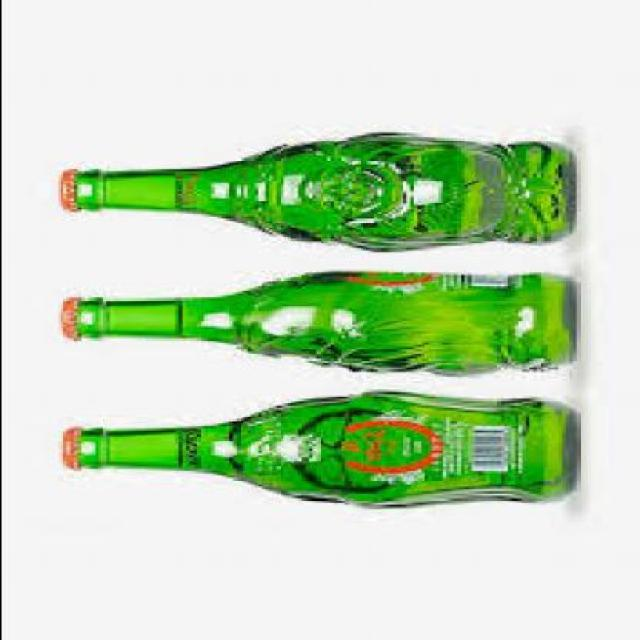GLASS: (69, 131, 568, 252), (72, 390, 568, 505), (72, 270, 571, 372)
METAL: (54, 293, 72, 336), (54, 169, 69, 209), (54, 426, 69, 465)
